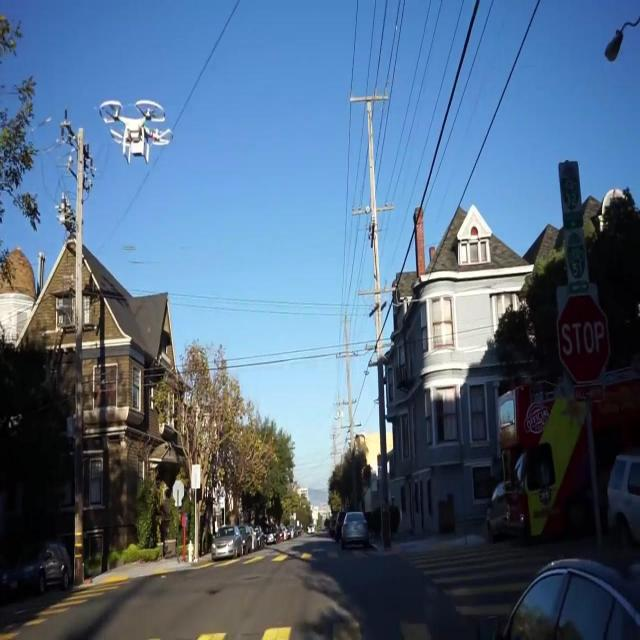UAV: (98, 100, 174, 166)
